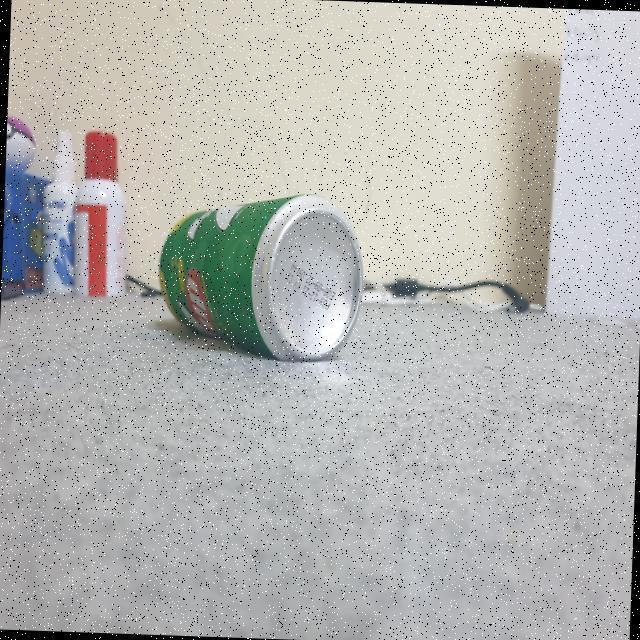can: (143, 183, 374, 374)
